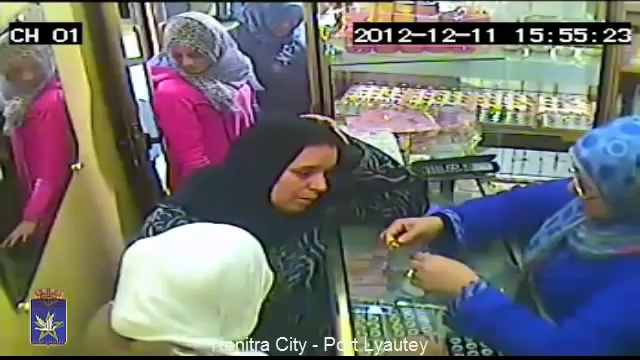face: (272, 142, 337, 209), (172, 38, 205, 73)
